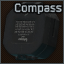EYE MK.2 professional hand-held compass: (0, 0, 64, 64)
